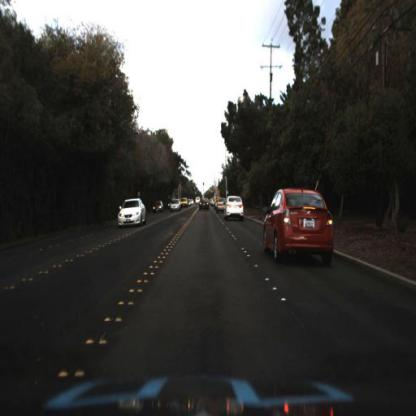car: (261, 186, 338, 267), (116, 196, 148, 230), (224, 193, 249, 223), (151, 199, 167, 217), (167, 198, 185, 214), (215, 196, 230, 215), (199, 194, 212, 213)
